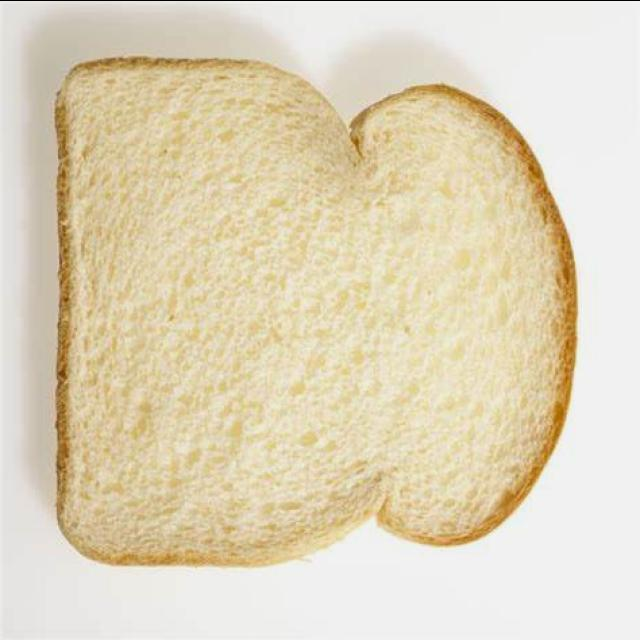roti tawar: (53, 53, 579, 570)
